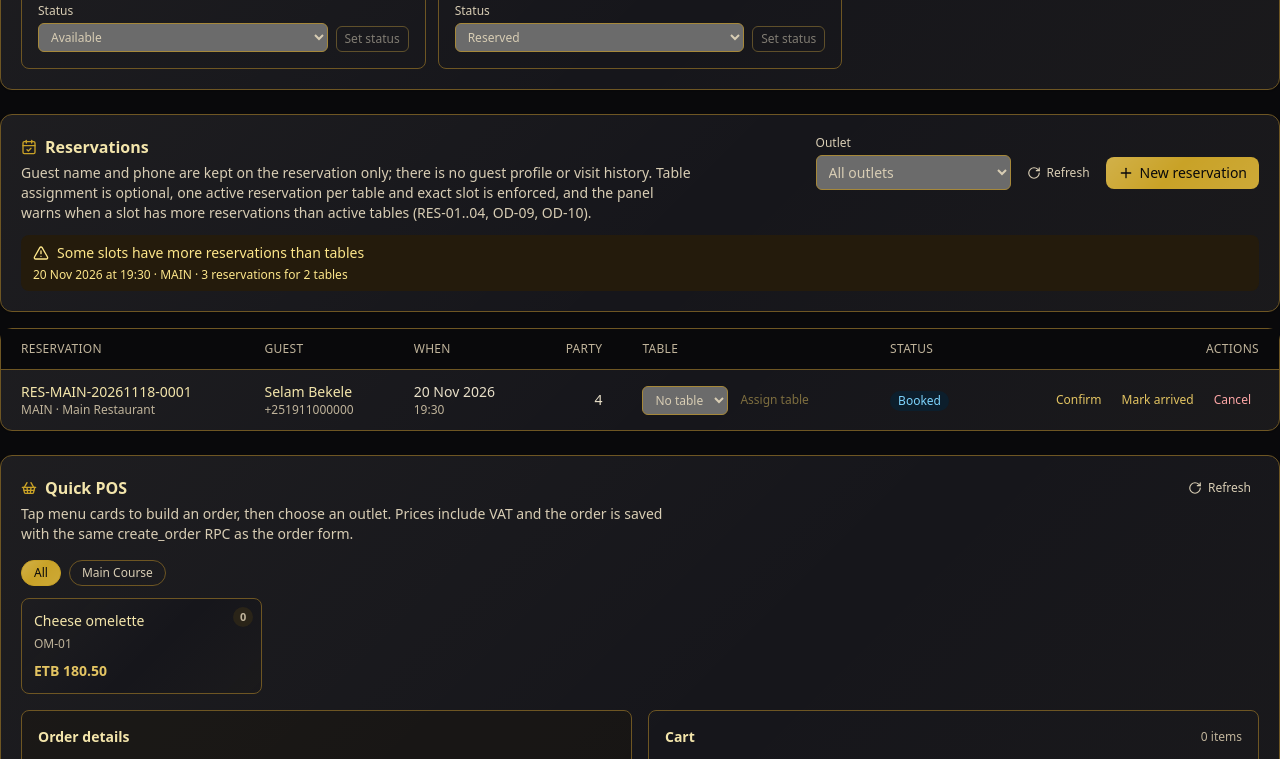
Test: Operations - menus, tables, reservations, orders and kitchen › moves a reservation through its status lifecycle
The width and height of the screenshot is (1280, 759).
(page scrolled)
Check: the text "RES-MAIN-20261118-0001" is shown, box [21,382,192,401]
Step 1. Click the button "Confirm" → click(1079, 400), box [1048,388,1110,412]
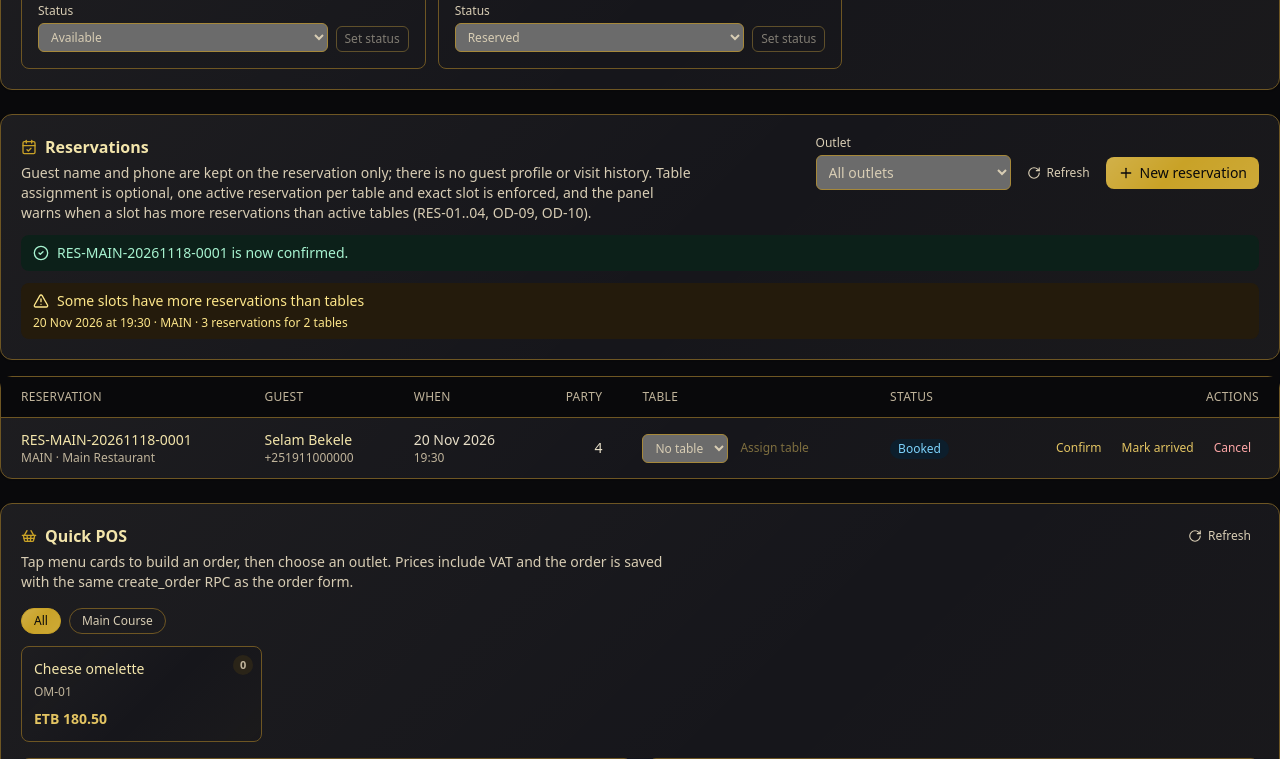
Check: the text "RES-MAIN-20261118-0001 is now confirmed." is shown, box [21,235,1259,271]
